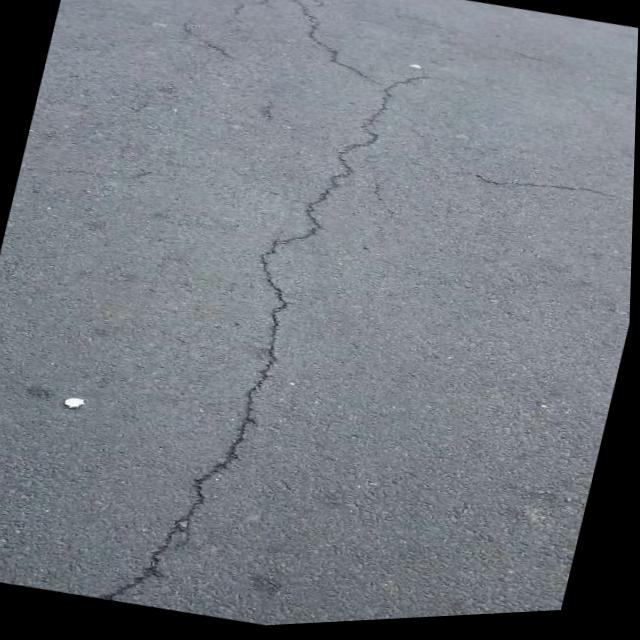Crack: (30, 0, 474, 638)
